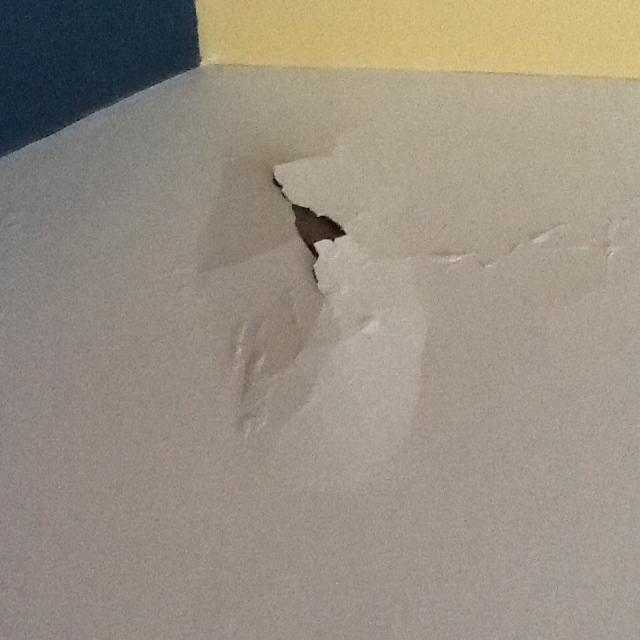leak: (192, 137, 417, 469), (426, 207, 640, 279)
